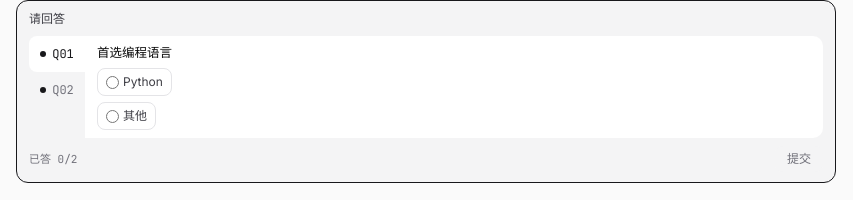
Test: PendingQuestionNav · 切换 › 点击导航项切换 active 题（q2 选项出现、q1 选项移出 DOM）
Expected: the text "Python" is shown, [97, 68, 172, 96]
Click the button "Q02" at [57, 90], box [29, 72, 85, 108]
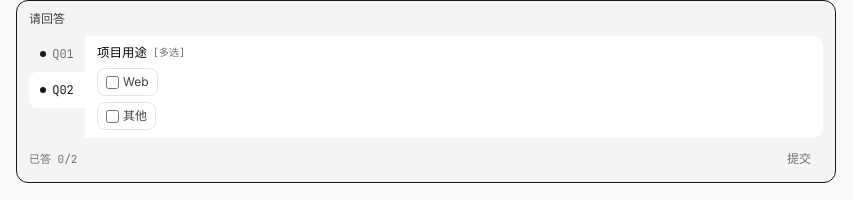
Result: the text "Web" is shown at [97, 68, 158, 96]
Result: the text "Python" is gone
